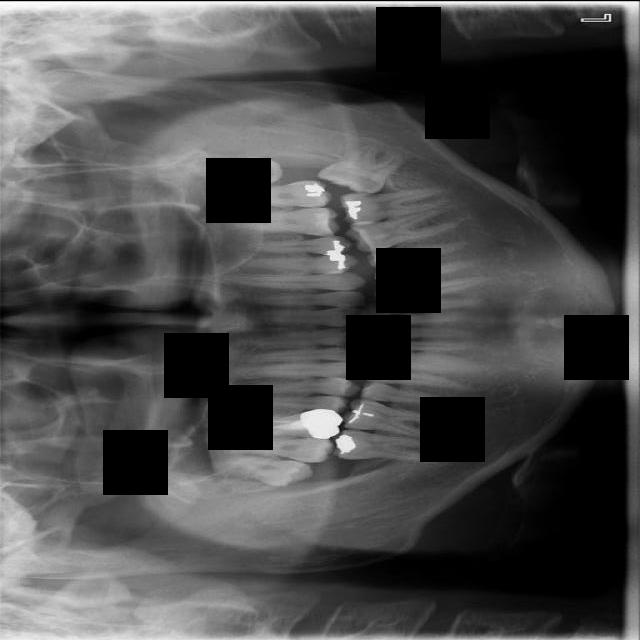3M ESPE Implant: (207, 452, 315, 489)
52: (337, 187, 384, 227), (342, 395, 388, 432), (296, 203, 340, 240), (295, 406, 344, 439), (346, 220, 396, 252), (285, 177, 335, 208), (332, 428, 375, 460), (313, 252, 359, 275), (312, 235, 353, 255)
73: (222, 411, 304, 444), (580, 31, 586, 38)
BioHorizons Implant: (230, 179, 333, 207)
BioLife Implant: (212, 147, 287, 198)
Biomet 3i Implant: (316, 125, 407, 203)
Blue Sky Bio Implant: (339, 186, 451, 225)
Caries: (213, 436, 333, 462)
Implant: (331, 428, 440, 463)
